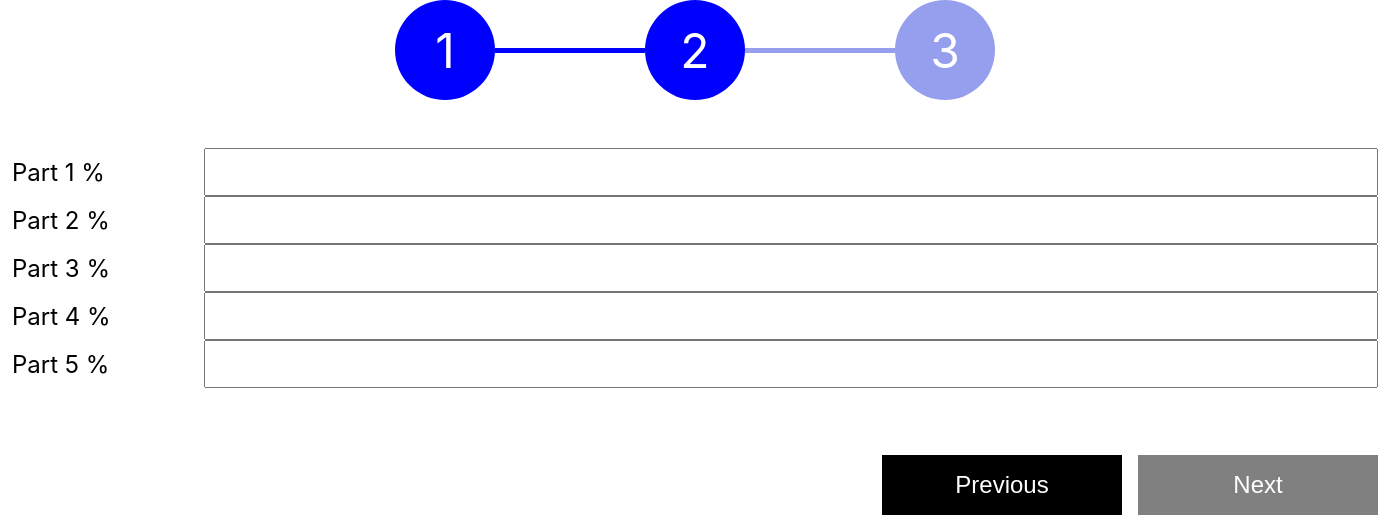
it: <Page2 /> unit test › should enable Next button when input is filled and equals to 100
Type "20" into the number field labelled "Part 1 %" at (791, 172), box [204,148,1378,196]
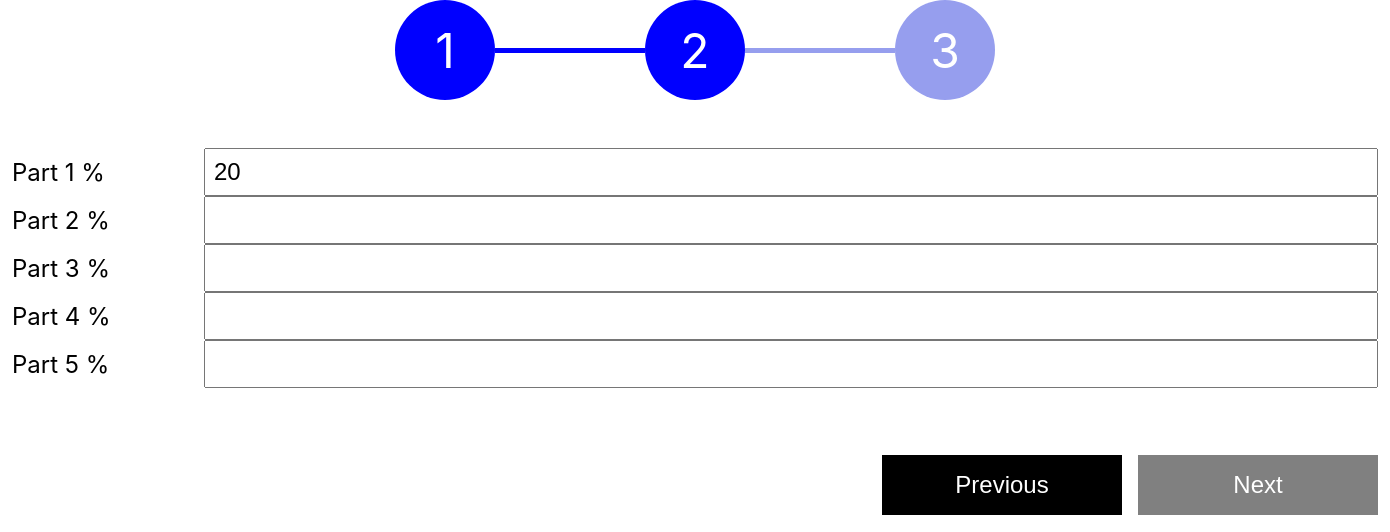
Type "20" into the number field labelled "Part 2 %" at (791, 220), box [204,196,1378,244]
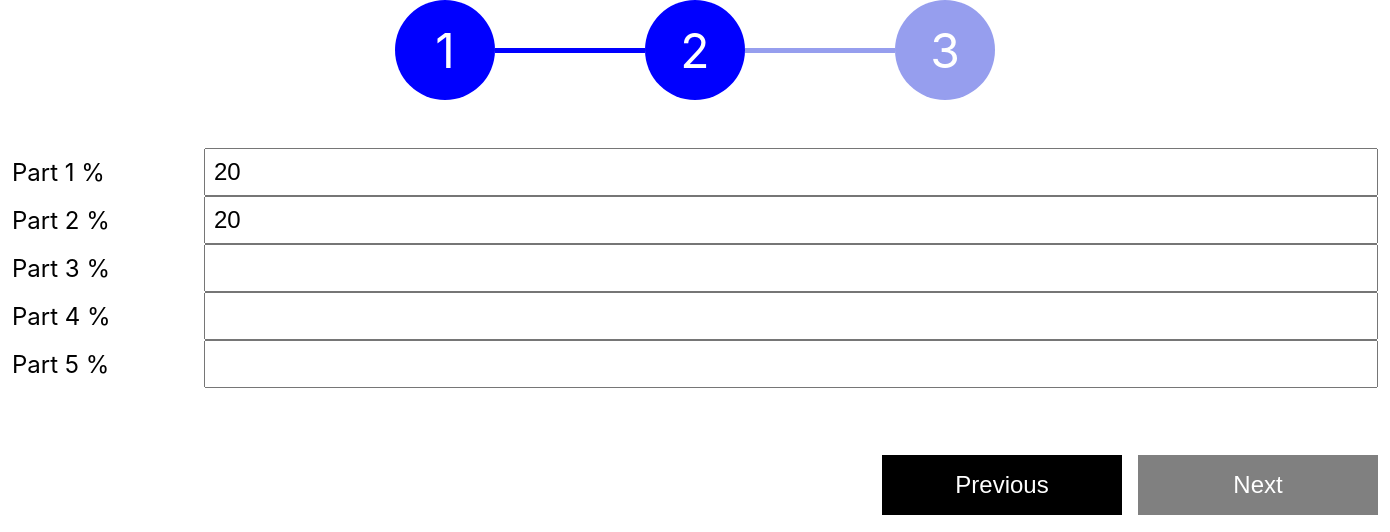
Type "10" into the number field labelled "Part 3 %" at (791, 268), box [204,244,1378,292]
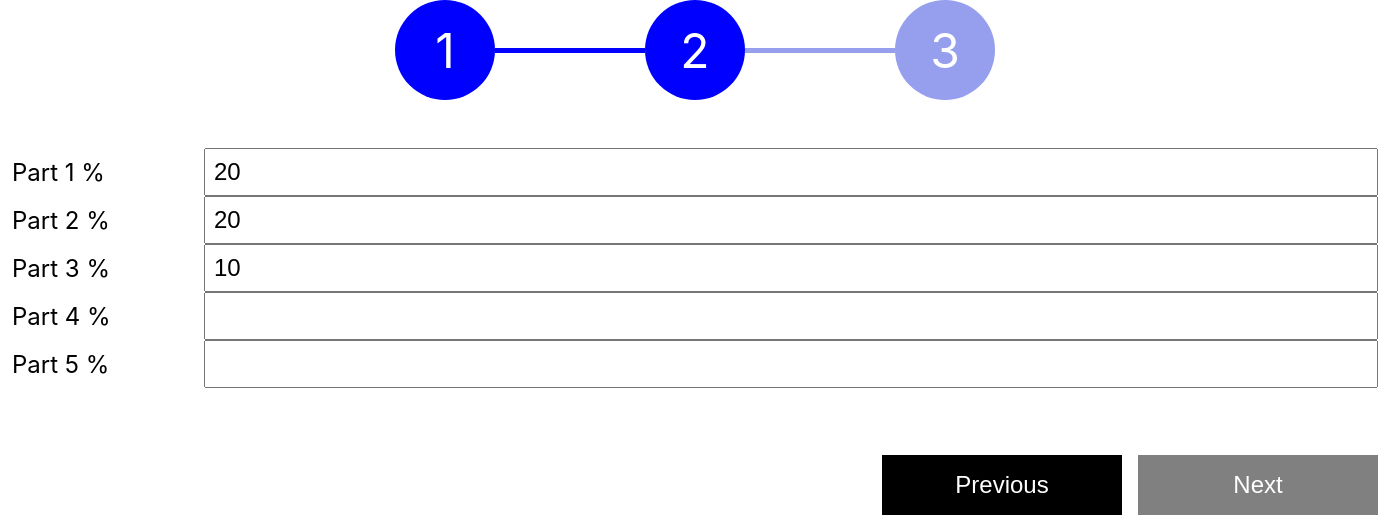
Type "50" into the number field labelled "Part 4 %" at (791, 316), box [204,292,1378,340]
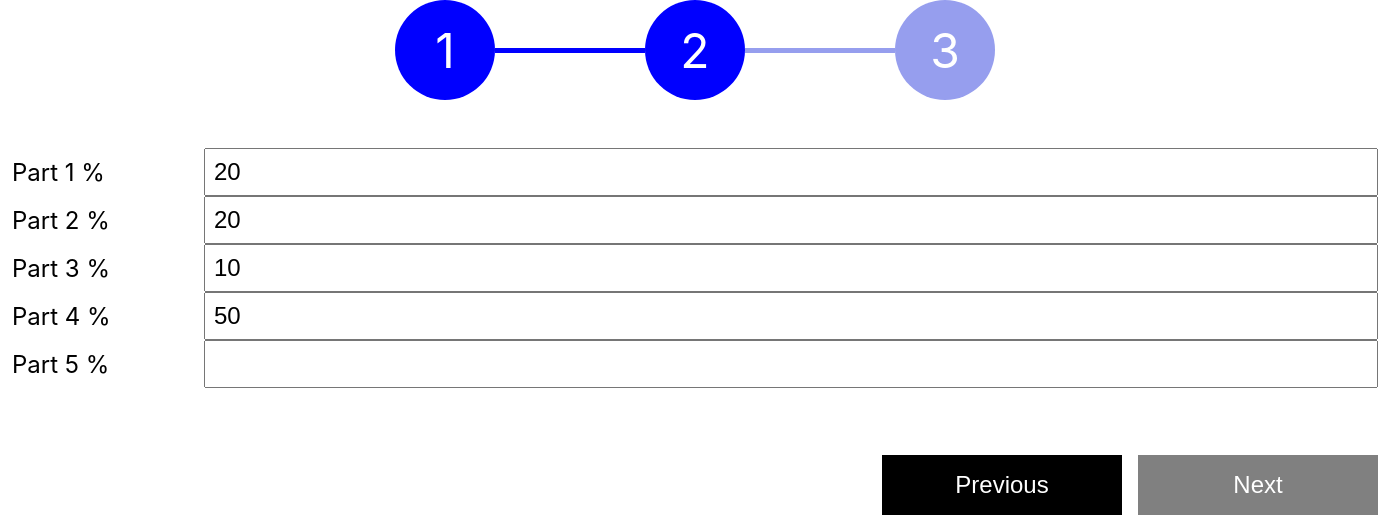
Type "0" into the number field labelled "Part 5 %" at (791, 364), box [204,340,1378,388]
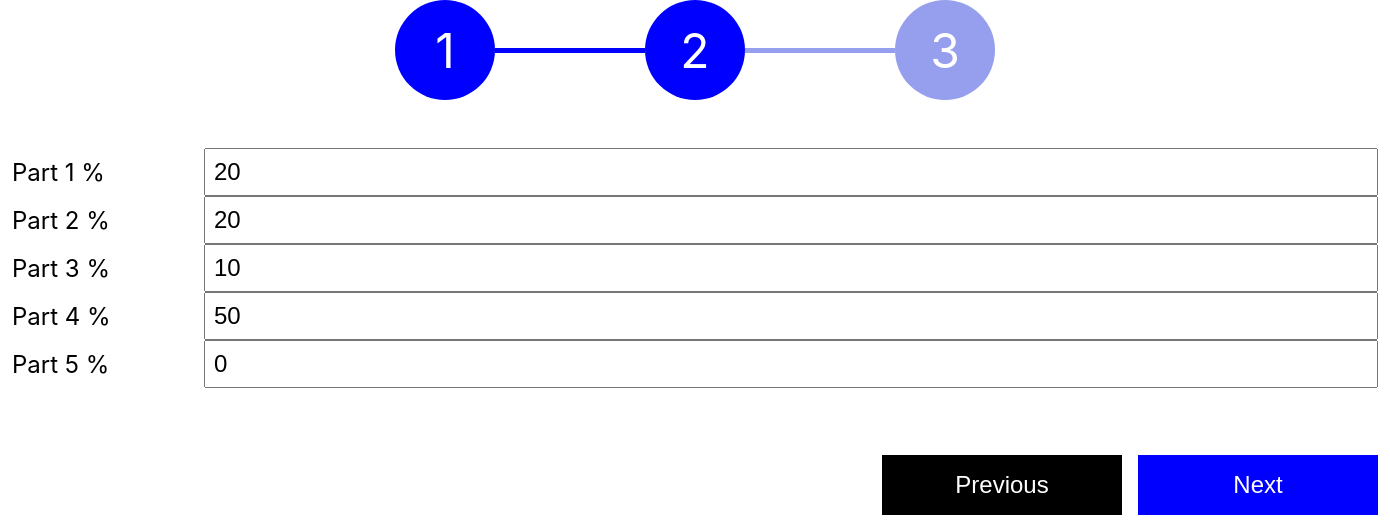
Result: the button "Next" is enabled at [1138,455,1378,515]
